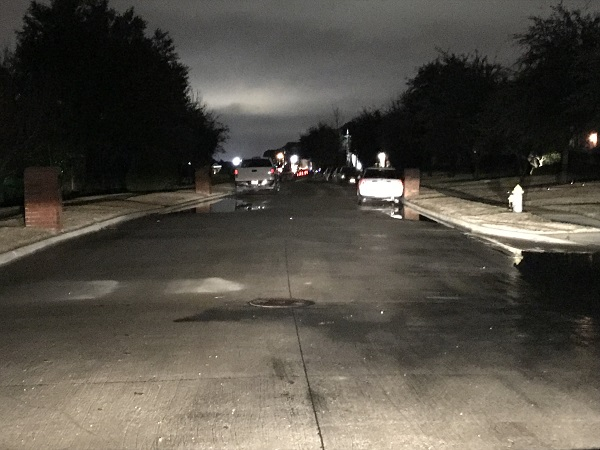car: (355, 168, 403, 203), (336, 168, 359, 187), (319, 167, 335, 180)
truck: (234, 158, 280, 192)
